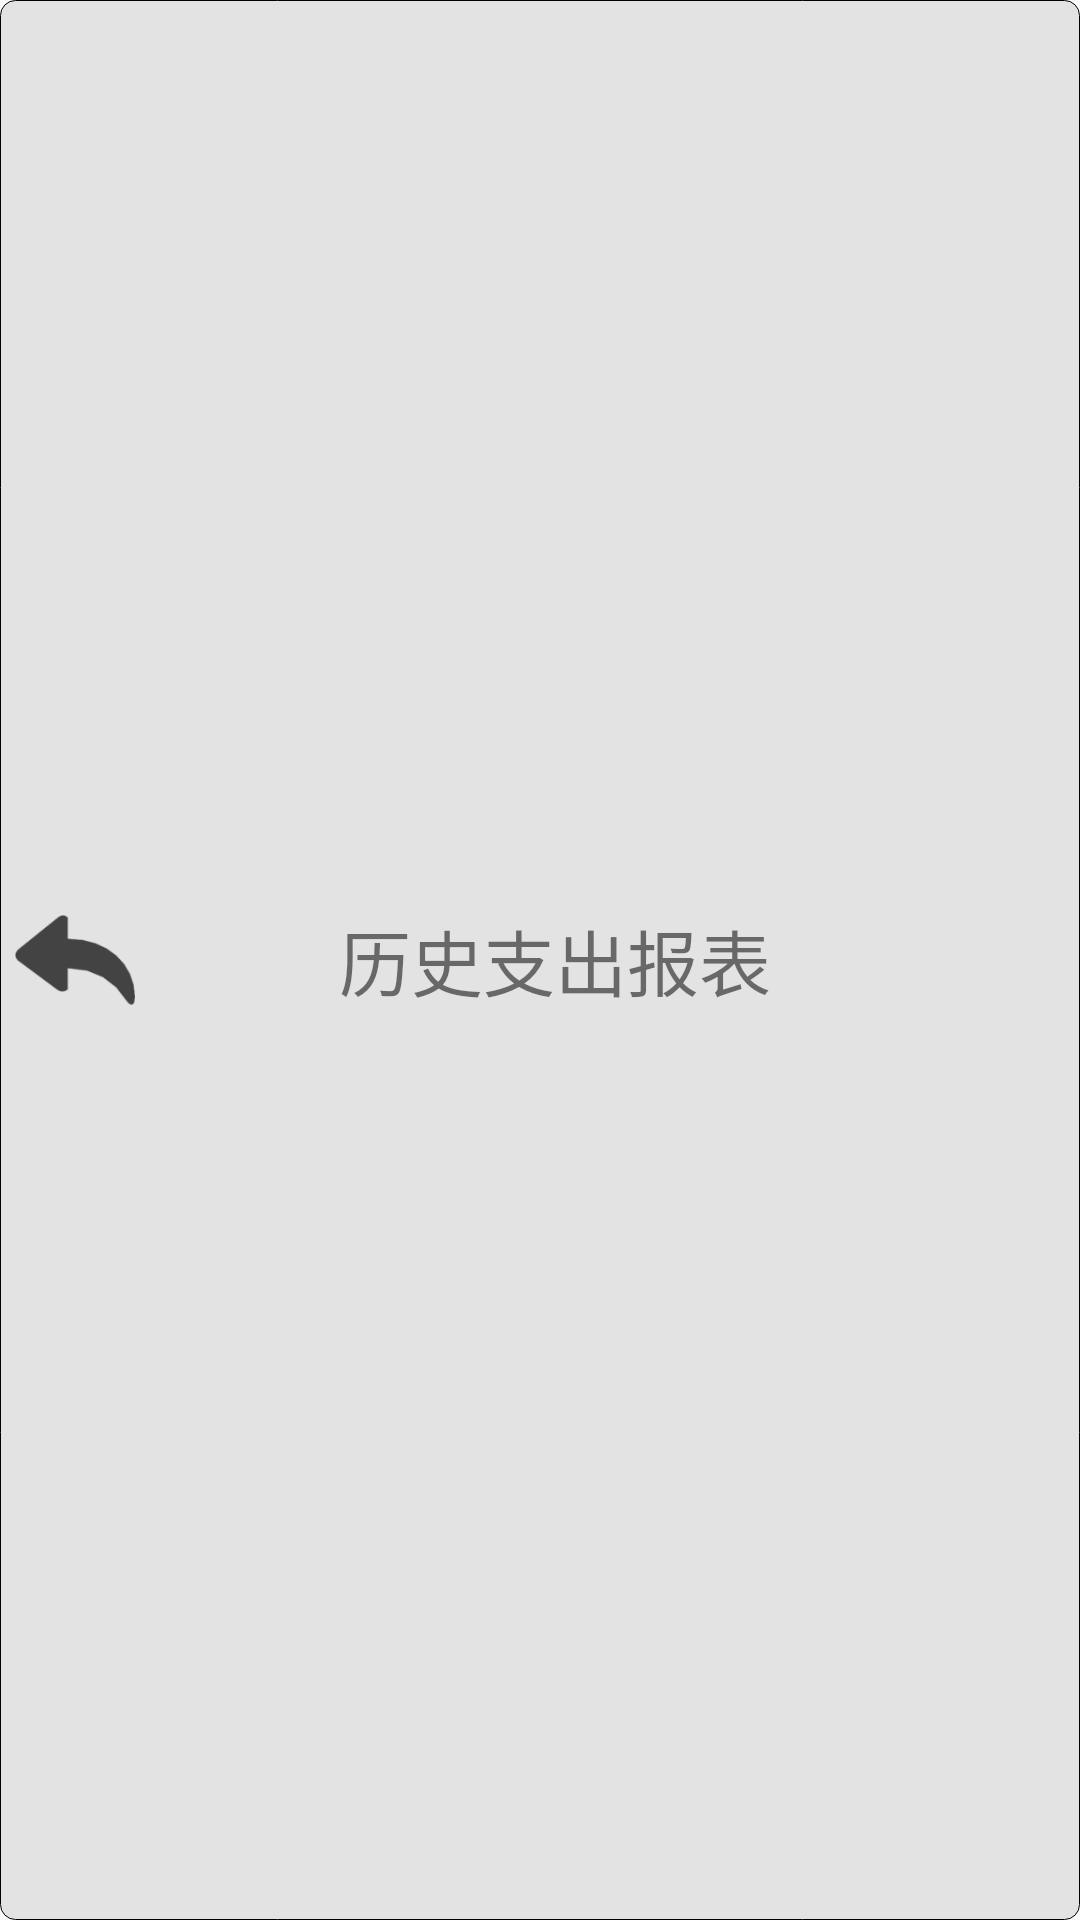

Icons on this 1080×1920 Android screen, each with its box as bbox=[x1, y1, x2, y2]:
backward: bbox=[15, 915, 135, 1005]
